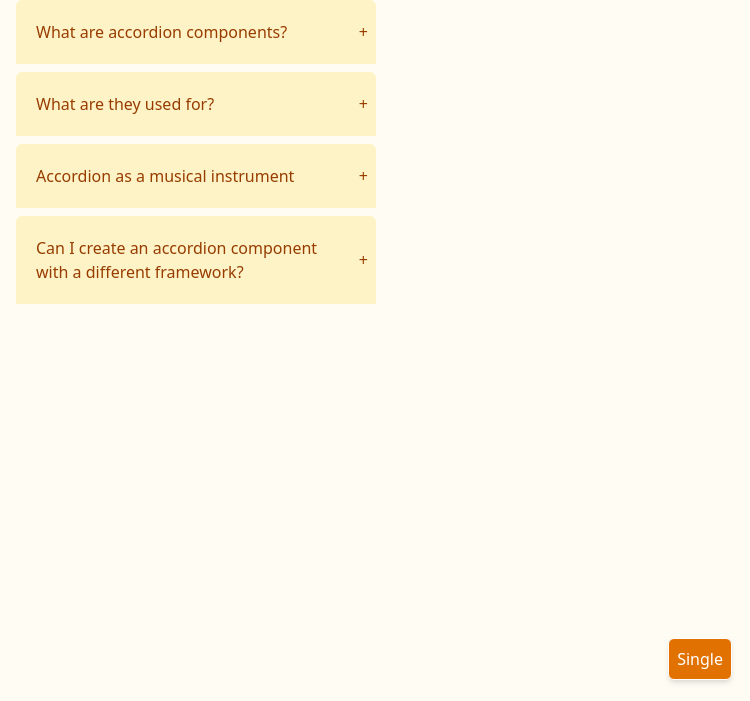
Test: Accordion Component › toggles between single and multiple mode when button is clicked
Click the button: (700, 659) [668, 638, 732, 680]
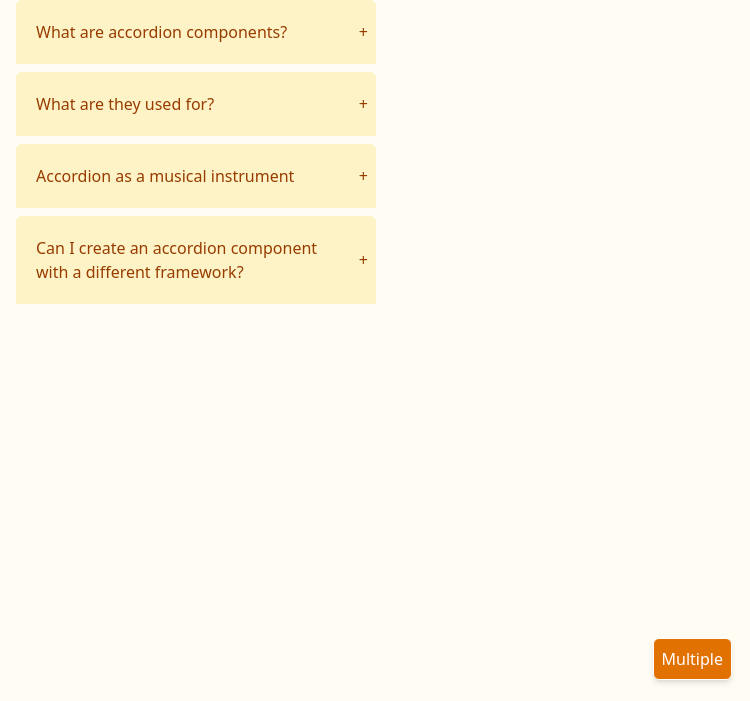
Now the button reads "Multiple", box [653, 638, 732, 680]
